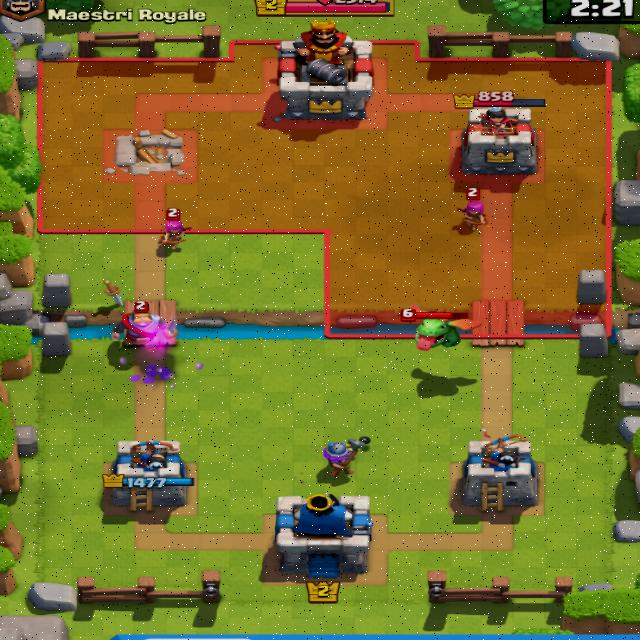Enemy-Archer: (115, 296, 160, 336), (454, 190, 486, 226), (158, 211, 187, 245)
Enemy-BabyDragon: (398, 308, 476, 351)
Player-Musketeer: (315, 435, 375, 484)
